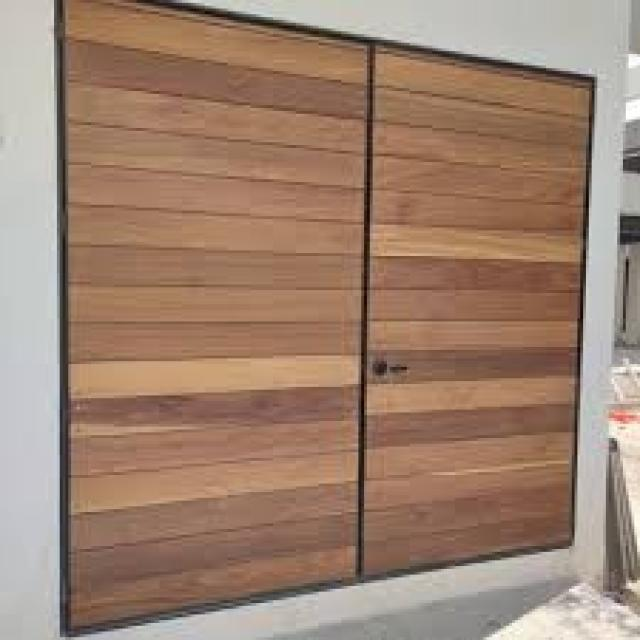door: (57, 0, 598, 637)
